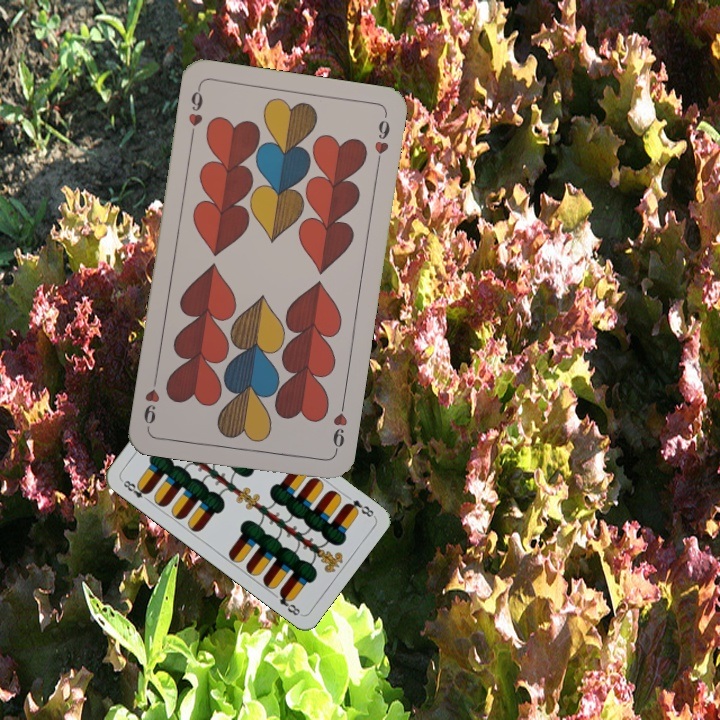E8: (118, 476, 153, 505), (341, 496, 377, 520)
H9: (184, 83, 206, 142), (329, 398, 350, 457)
